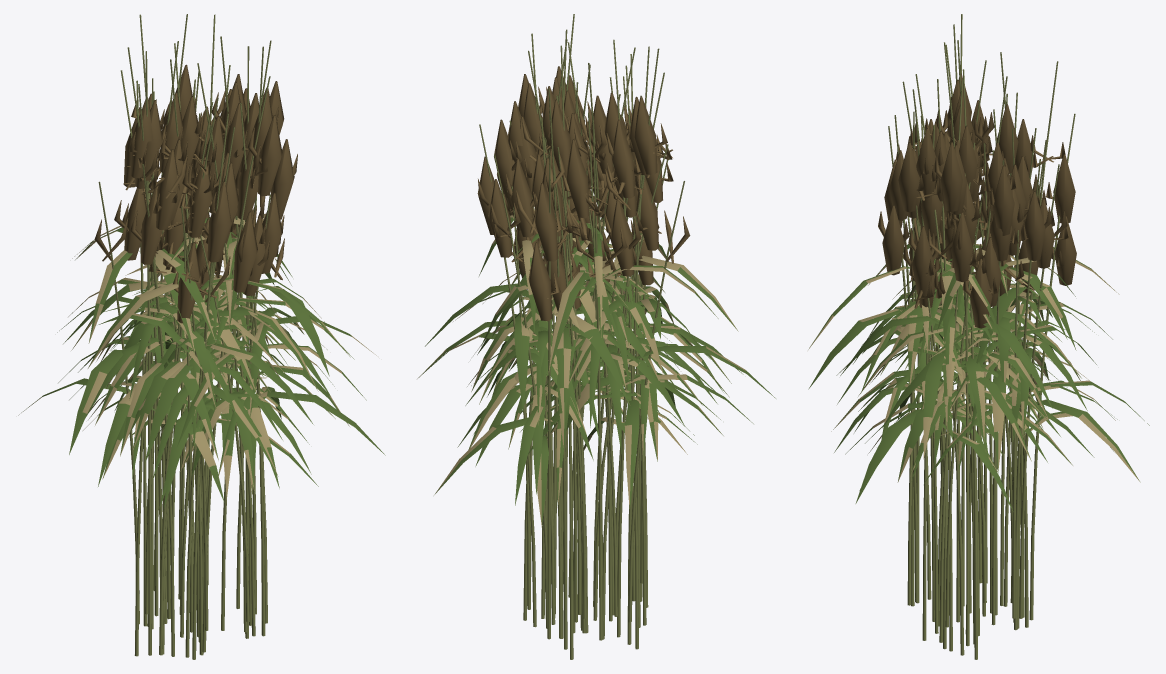
Rendered from vegetation_08.glb.
3 renders of one model, left to right at view 1: azimuth 30°, elevation 25°; view 2: azimuth 150°, elevation 25°; view 3: azimuth 270°, elevation 25°, orthographic. The views are drawn at different scales.
Parts seen in each view (by area): view 1: prototype_065, prototype_069, prototype_071, prototype_070, prototype_067, prototype_068, prototype_066, prototype_064; view 2: prototype_065, prototype_067, prototype_070, prototype_068, prototype_071, prototype_069, prototype_064, prototype_066; view 3: prototype_069, prototype_067, prototype_071, prototype_068, prototype_066, prototype_070, prototype_065, prototype_064.
Boxes of the visible parts, bbox=[...] form: prototype_065: bbox=[69, 41, 309, 656]; prototype_069: bbox=[71, 36, 385, 636]; prototype_071: bbox=[88, 46, 330, 659]; prototype_070: bbox=[68, 14, 334, 655]; prototype_067: bbox=[18, 14, 354, 637]; prototype_068: bbox=[58, 14, 366, 655]; prototype_066: bbox=[63, 66, 376, 651]; prototype_064: bbox=[71, 65, 284, 652]; prototype_065: bbox=[434, 39, 775, 649]; prototype_067: bbox=[465, 33, 743, 659]; prototype_070: bbox=[481, 46, 731, 649]; prototype_068: bbox=[473, 29, 697, 630]; prototype_071: bbox=[417, 14, 738, 637]; prototype_069: bbox=[473, 39, 723, 620]; prototype_064: bbox=[453, 42, 699, 638]; prototype_066: bbox=[468, 43, 687, 631]; prototype_069: bbox=[831, 69, 1119, 659]; prototype_067: bbox=[834, 42, 1094, 644]; prototype_071: bbox=[862, 74, 1117, 655]; prototype_068: bbox=[808, 60, 1149, 651]; prototype_066: bbox=[808, 105, 1081, 633]; prototype_070: bbox=[845, 24, 1115, 628]; prototype_065: bbox=[863, 14, 1140, 622]; prototype_064: bbox=[859, 106, 1068, 633].
Bounding box in the file's own units: 1.79 × 3.26 × 1.74.
